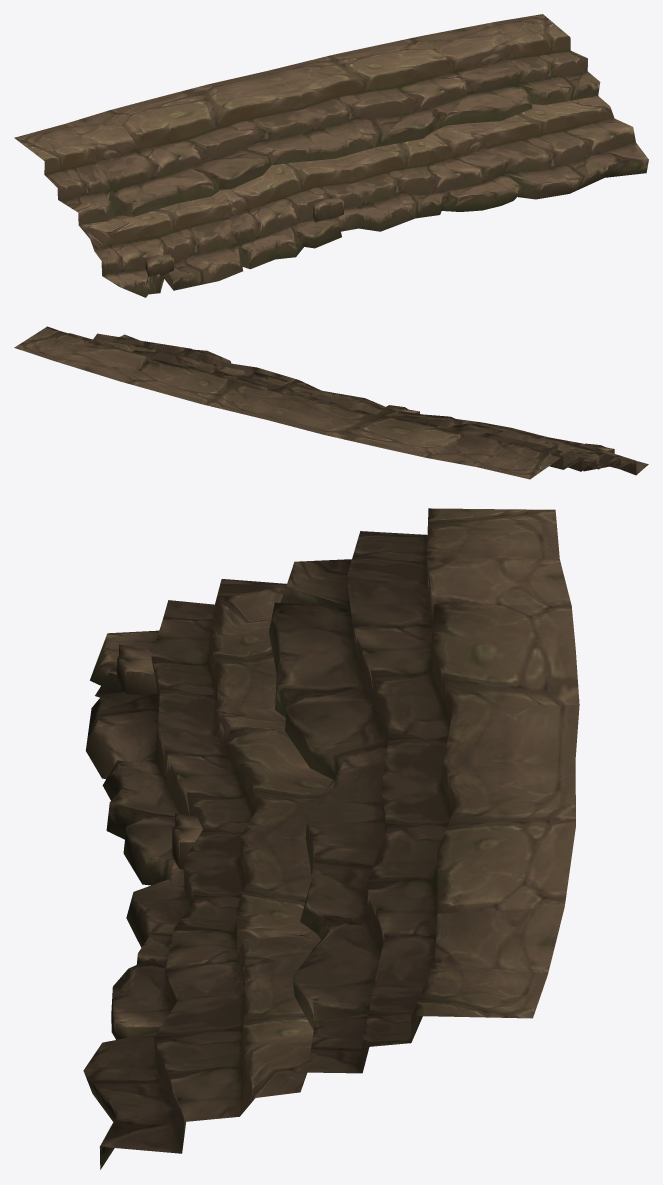
The model's file is Battle02_Steps_01.FBX.
3 views of the same model, one above another, from view 1: azimuth 30°, elevation 25°; view 2: azimuth 150°, elevation 25°; view 3: azimuth 270°, elevation 25° (orthographic). The views are drawn at different scales.
Visible parts, largest first — view 1: Battle02_Steps_01; view 2: Battle02_Steps_01; view 3: Battle02_Steps_01.
Part boxes in pixels (x1,y1,x2,y2): Battle02_Steps_01: [14, 14, 648, 297]; Battle02_Steps_01: [14, 326, 648, 479]; Battle02_Steps_01: [83, 508, 579, 1169].
Size of the model in its own units: 12.93 by 1.81 by 5.18.
